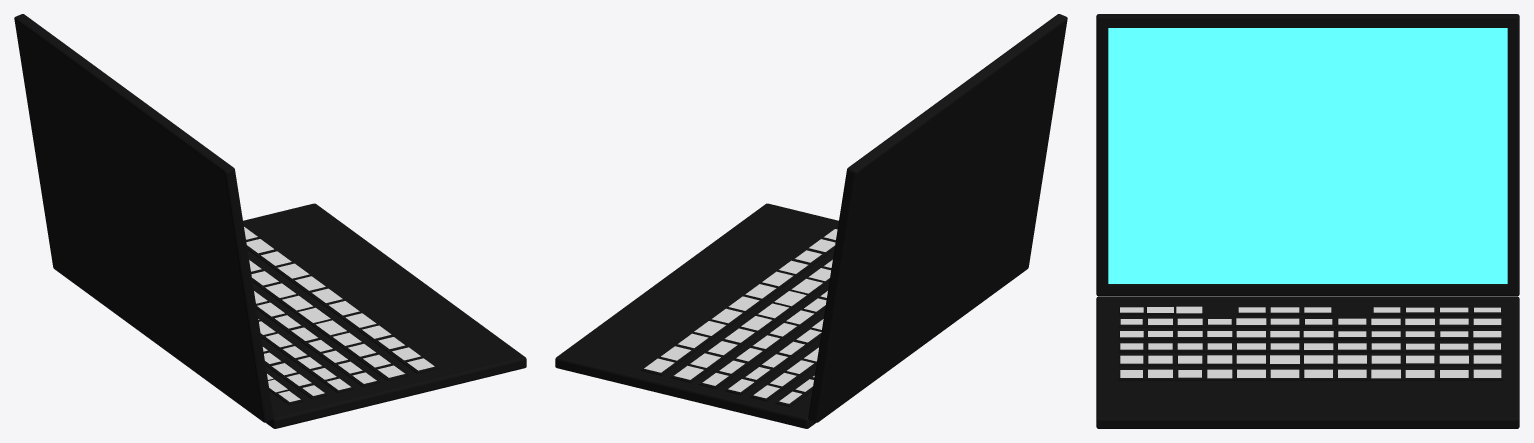
The model's file is laptop_02.glb.
The picture shows the model from 3 angles, left to right: view 1: azimuth 30°, elevation 25°; view 2: azimuth 150°, elevation 25°; view 3: azimuth 270°, elevation 25°; orthographic projection.
Parts seen in each view (by area): view 1: LaptopMontor, LaptopBase; view 2: LaptopMontor, LaptopBase; view 3: LaptopMontor, LaptopBase.
Part boxes in pixels (bbox=[...]): LaptopMontor: bbox=[14, 14, 273, 422]; LaptopBase: bbox=[243, 203, 526, 428]; LaptopMontor: bbox=[808, 14, 1067, 422]; LaptopBase: bbox=[555, 203, 838, 428]; LaptopMontor: bbox=[1096, 14, 1519, 296]; LaptopBase: bbox=[1096, 296, 1519, 428].
Bounding box in the file's own units: 0.0956 × 0.0822 × 0.1164.
